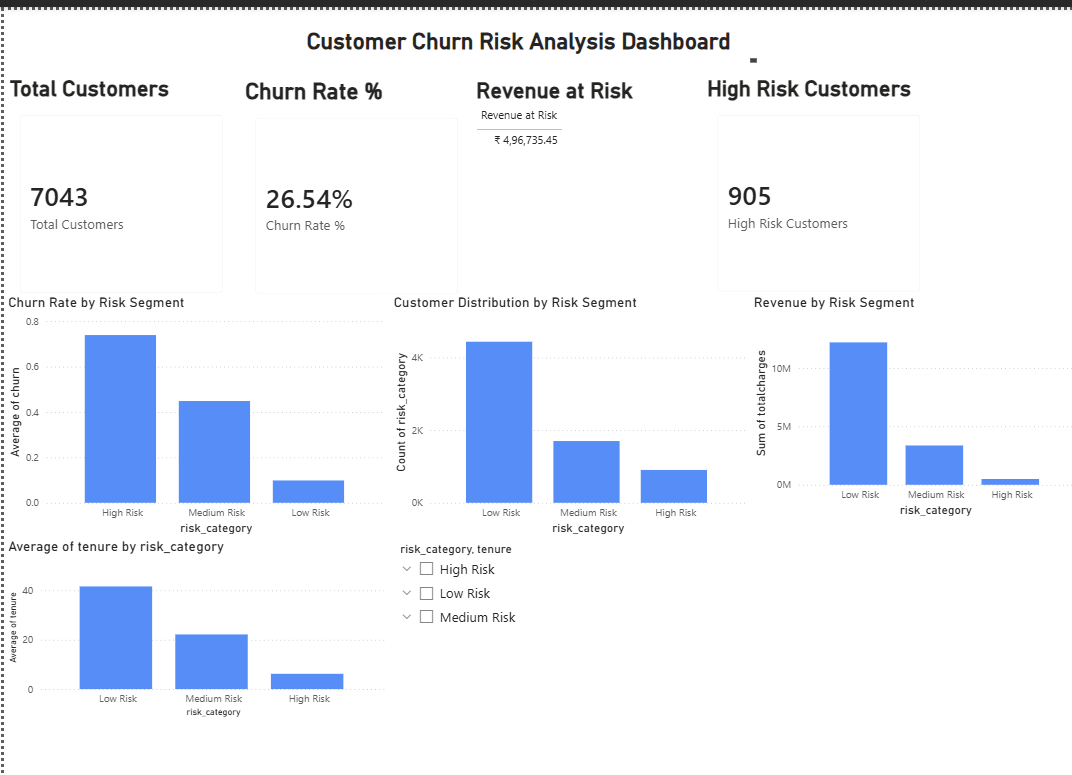

The dashboard page shown, as its layout file describes it:
{"tool":"powerbi","page":{"name":"Page 1","canvas":[1300,1200],"ordinal":0},"visuals":[{"type":"cardVisual","title":"Total Customers","fields":{"Data":["churn_dashboard_dataset.Total Customers"]},"box":[1.8,80,280,280],"z":0},{"type":"cardVisual","title":"Churn Rate %","fields":{"Data":["churn_dashboard_dataset.Churn Rate %"]},"box":[287.3,81.8,280,280],"z":1000},{"type":"tableEx","title":"Revenue at Risk","fields":{"Values":["churn_dashboard_dataset.Revenue at Risk"]},"box":[567.3,81.8,280,278.2],"z":2000},{"type":"cardVisual","title":"High Risk Customers","fields":{"Data":["churn_dashboard_dataset.High Risk Customers"]},"box":[847.3,80,280,278.2],"z":3000},{"type":"clusteredColumnChart","title":"Churn Rate by Risk Segment","fields":{"Category":["churn_dashboard_dataset.risk_category"],"Y":["Avg(churn_dashboard_dataset.churn)"]},"box":[0,343.6,467.3,296.4],"z":4000},{"type":"clusteredColumnChart","title":"Customer Distribution by Risk Segment","fields":{"Category":["churn_dashboard_dataset.risk_category"],"Y":["CountNonNull(churn_dashboard_dataset.risk_category)"]},"box":[467.3,343.6,436.4,296.4],"z":5000},{"type":"clusteredColumnChart","title":"Revenue by Risk Segment","fields":{"Category":["churn_dashboard_dataset.risk_category"],"Y":["Sum(churn_dashboard_dataset.totalcharges)"]},"box":[903.6,343.6,396.4,274.5],"z":6000},{"type":"textbox","title":"Customer Churn Risk Analysis Dashboard","box":[361.9,21.2,555.7,46.9],"z":7000},{"type":"clusteredColumnChart","fields":{"Category":["churn_dashboard_dataset.risk_category"],"Y":["Avg(churn_dashboard_dataset.tenure)"]},"box":[0,640,467.3,221.8],"z":8000},{"type":"slicer","fields":{"Values":["churn_dashboard_dataset.risk_category","churn_dashboard_dataset.tenure"]},"box":[467.3,640,396.4,221.8],"z":8001}]}

Visuals, with their boxes on the page's 1300x1200 design canvas (x1, y1, x2, y2). These are canvas units, not pixel positions in the 1072x775 screenshot, which may show the page scaled, cropped or inside an application window:
"Total Customers" cardVisual: (2, 80, 282, 360)
"Churn Rate %" cardVisual: (287, 82, 567, 362)
"Revenue at Risk" tableEx: (567, 82, 847, 360)
"High Risk Customers" cardVisual: (847, 80, 1127, 358)
"Churn Rate by Risk Segment" clusteredColumnChart: (0, 344, 467, 640)
"Customer Distribution by Risk Segment" clusteredColumnChart: (467, 344, 904, 640)
"Revenue by Risk Segment" clusteredColumnChart: (904, 344, 1300, 618)
"Customer Churn Risk Analysis Dashboard" textbox: (362, 21, 918, 68)
clusteredColumnChart - churn_dashboard_dataset.risk_category x Avg(churn_dashboard_dataset.tenure): (0, 640, 467, 862)
slicer - churn_dashboard_dataset.risk_category x churn_dashboard_dataset.tenure: (467, 640, 864, 862)
